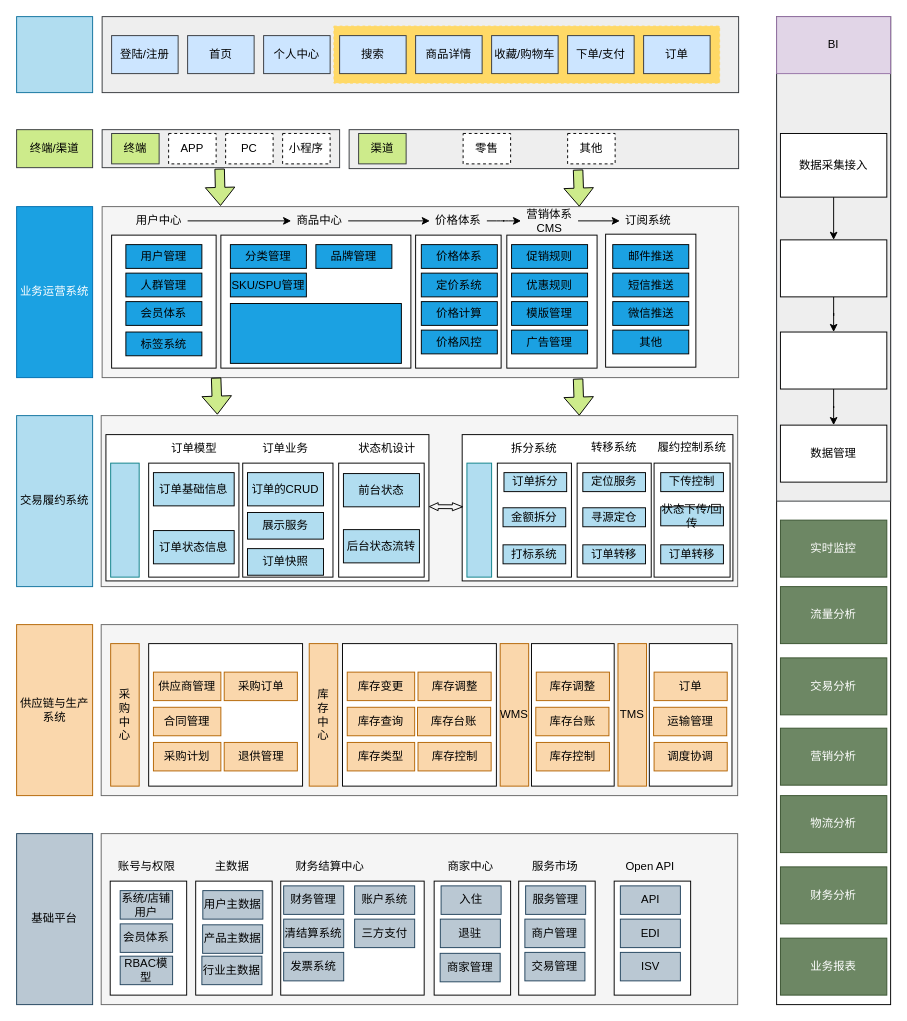
The diagram is 907 pixels wide and 1021 high, and some of its shapes have lost their labels. Here are the shapes that lost their labels. From the top down, the box of each, then its label:
(16, 16, 93, 93): 用户端
(779, 239, 887, 297): 数据处理
(229, 303, 401, 363): 商品管理：创建、上下架、属性管理、商品审核
(779, 331, 887, 389): 数据应用
(110, 462, 139, 577): 订 单 中 心
(466, 462, 492, 577): 履 约 系 统
